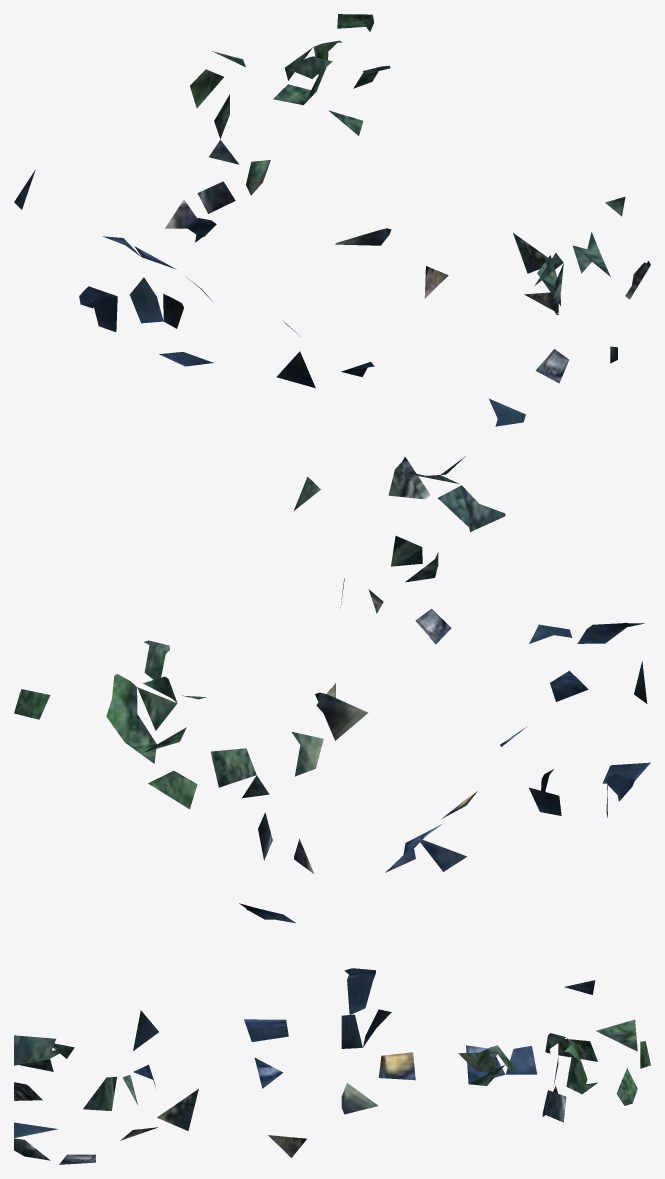
The picture shows the model from 3 angles, top to bottom: view 1: azimuth 30°, elevation 25°; view 2: azimuth 150°, elevation 25°; view 3: azimuth 270°, elevation 25°; orthographic projection. The views are drawn at different scales.
Parts seen in each view (by area): view 1: 30436272704361515632_1; view 2: 30436272704361515632_1; view 3: 30436272704361515632_1.
Boxes of the visible parts, x1=… form: 30436272704361515632_1: x1=14, y1=14, x2=650, y2=426; 30436272704361515632_1: x1=14, y1=456, x2=650, y2=873; 30436272704361515632_1: x1=14, y1=903, x2=650, y2=1164.
Bounding box in the file's own units: 27.31 × 9.09 × 37.18.
Materials: 1 (1 with a texture image).
